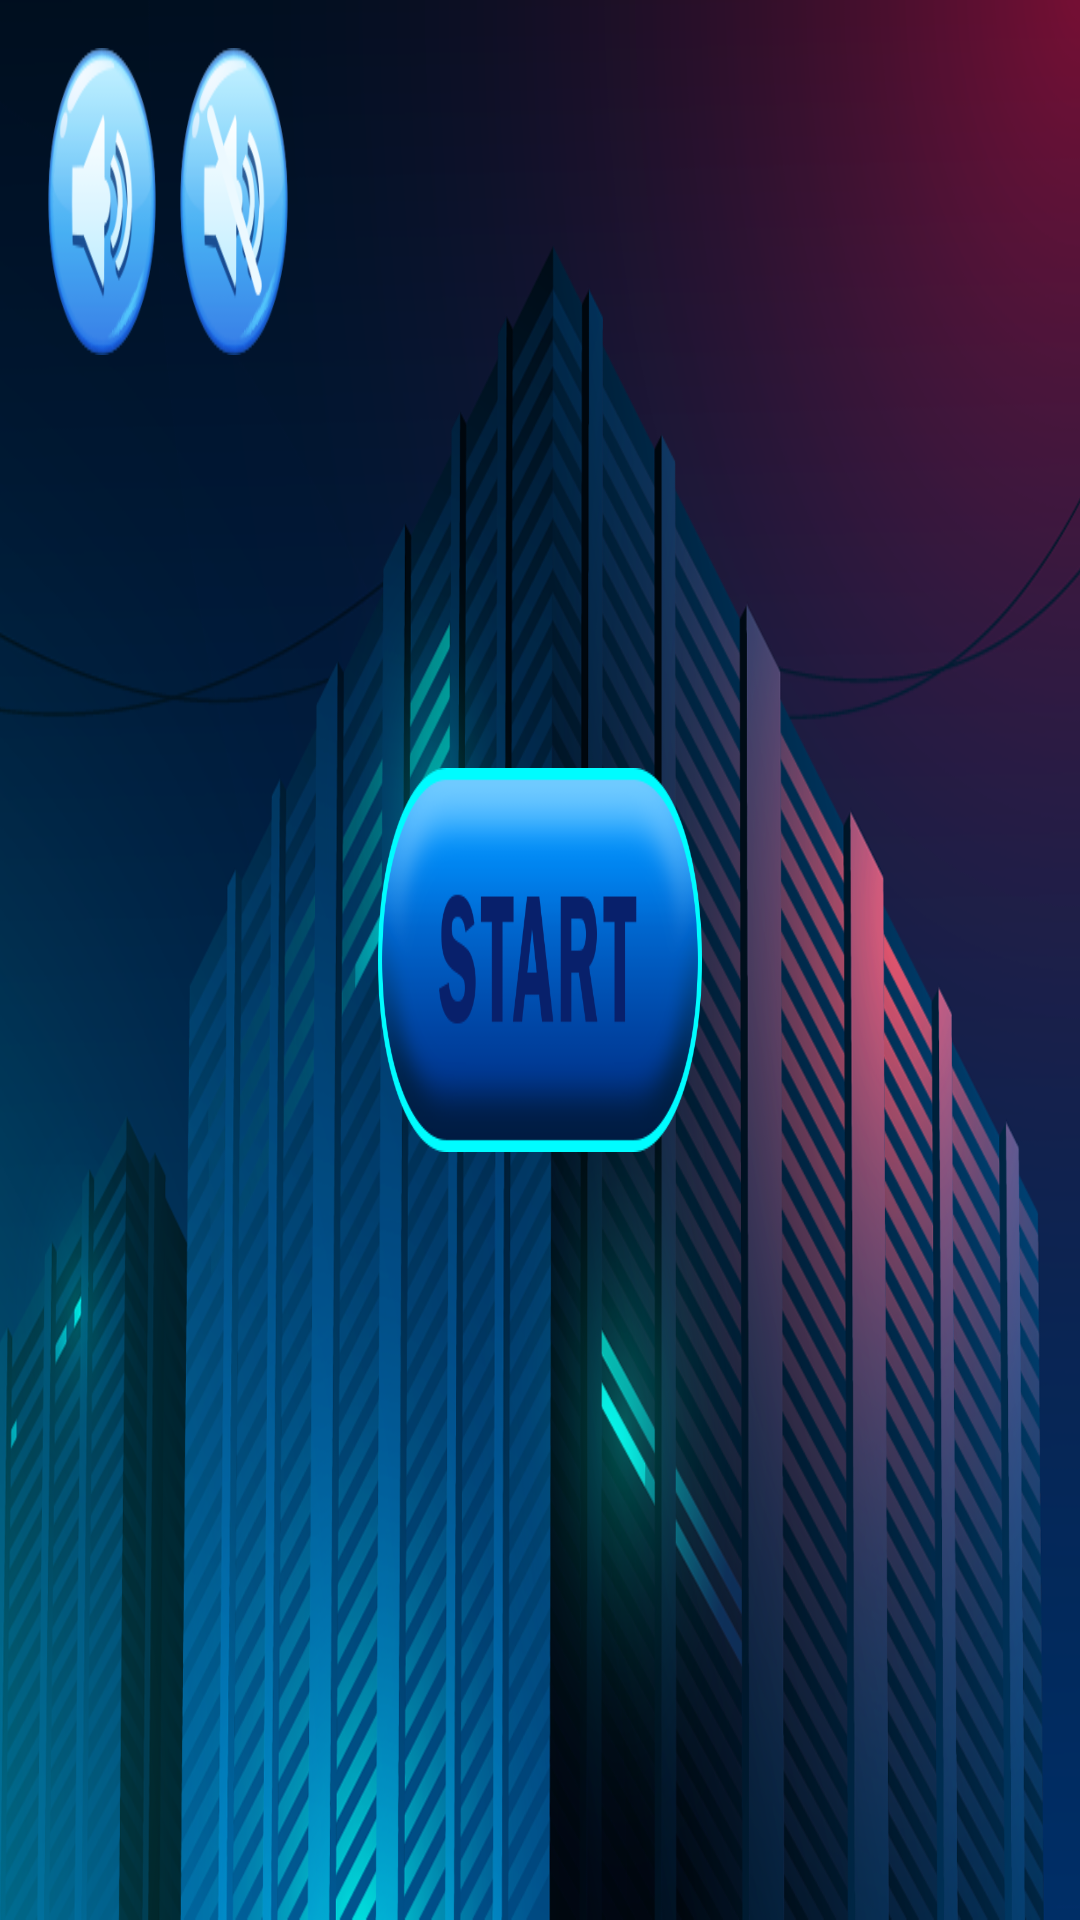

Where icons sit on this 1080×1920 app screen, as (x1, y1, x2, y2):
vol off: (180, 48, 288, 355)
vol on: (48, 48, 156, 355)
